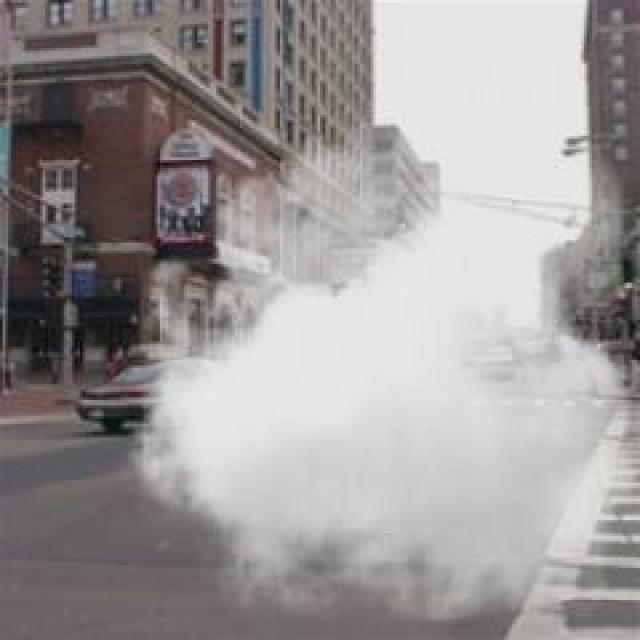smoke: (111, 65, 637, 623)
